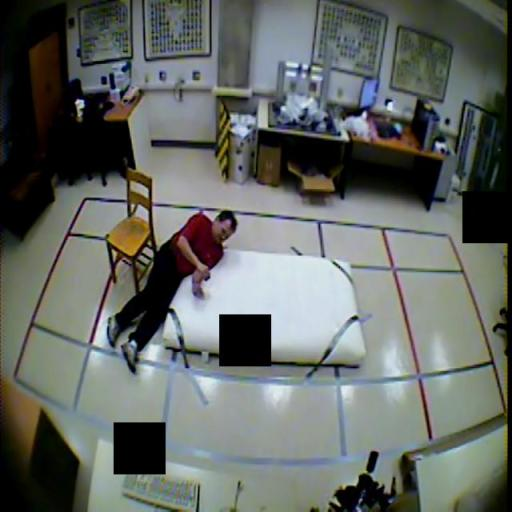Fall: (107, 206, 238, 376)
